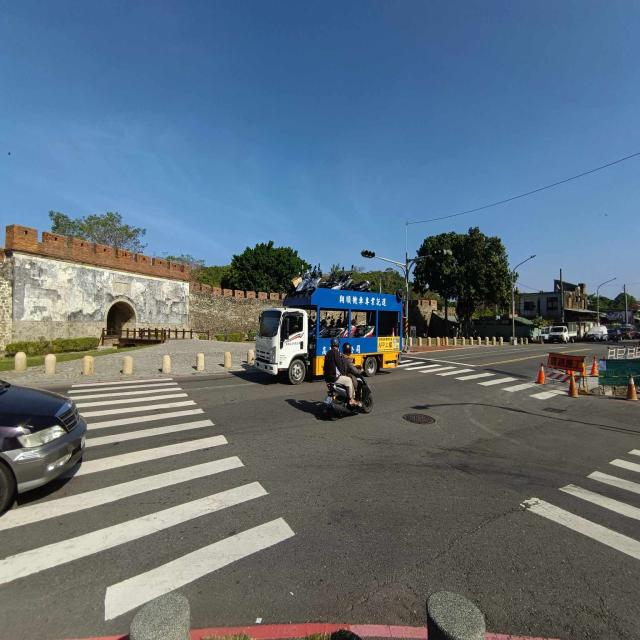person: (324, 337, 360, 405), (342, 342, 361, 389)
zebra crossing: (0, 377, 295, 613), (527, 449, 640, 559), (397, 356, 566, 404)
